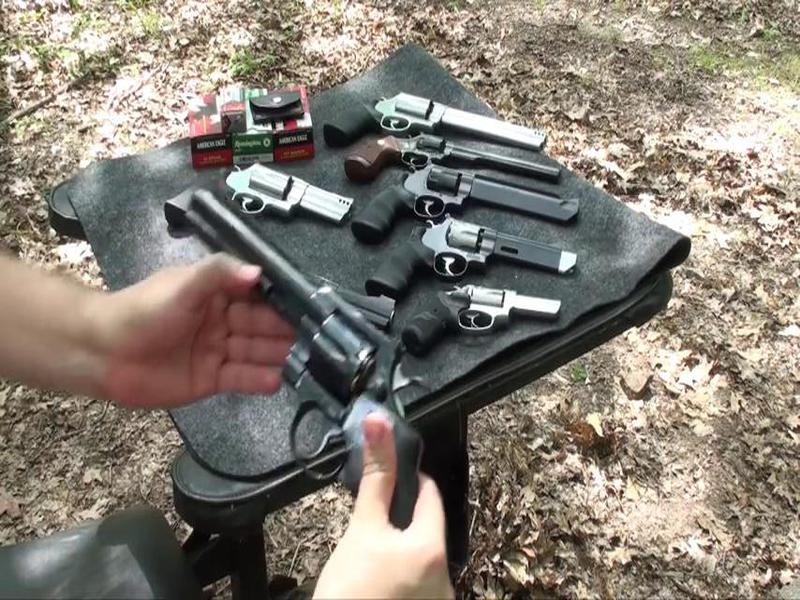Revolver: (183, 171, 457, 526)
